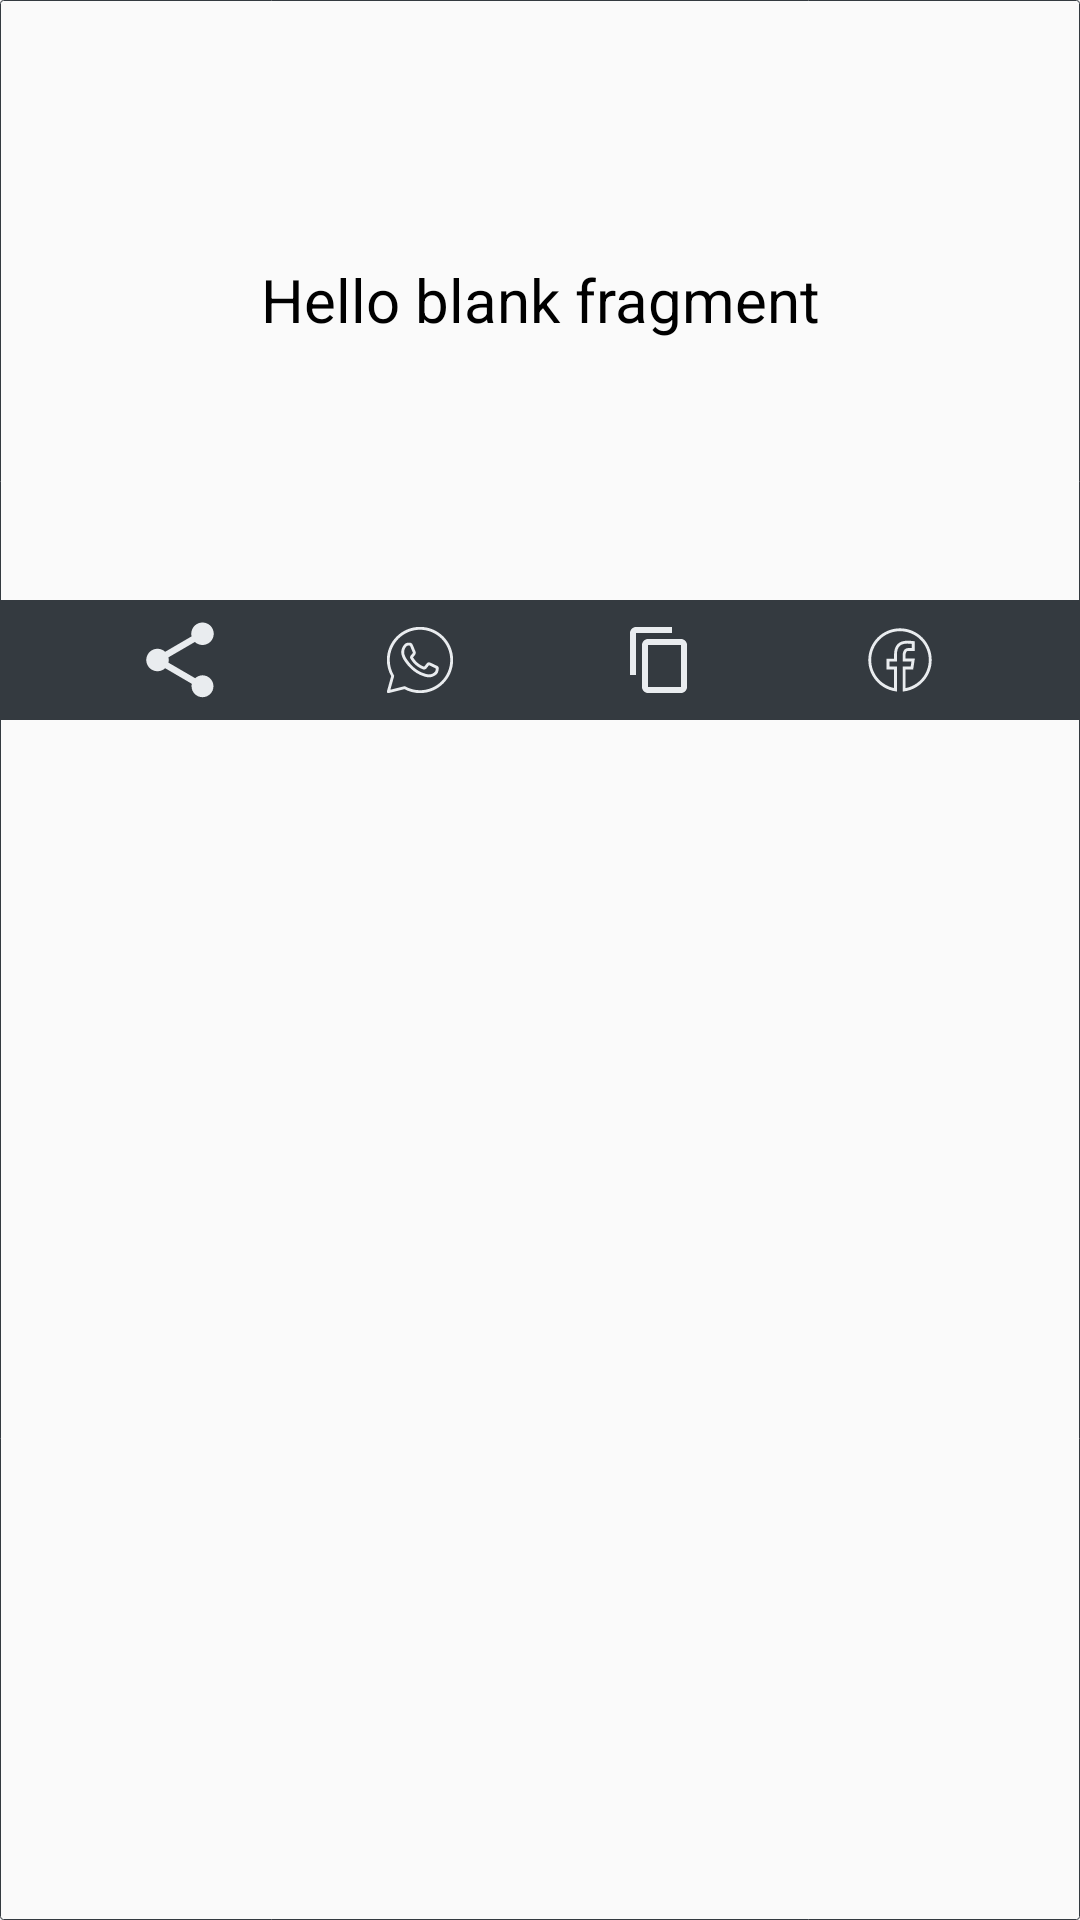

Named icons in this screenshot (1080*1920) and their bounding boxes, [left=x1, top=y1, right=x2, bottom=y2]:
copy: [left=630, top=627, right=687, bottom=693]
share: [left=146, top=622, right=214, bottom=698]
